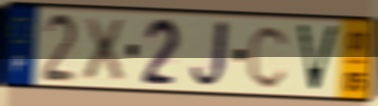2: (137, 14, 184, 89), (40, 10, 80, 86)
C: (246, 22, 293, 91)
J: (187, 16, 232, 92)
V: (294, 21, 342, 96)
X: (81, 15, 127, 83)
